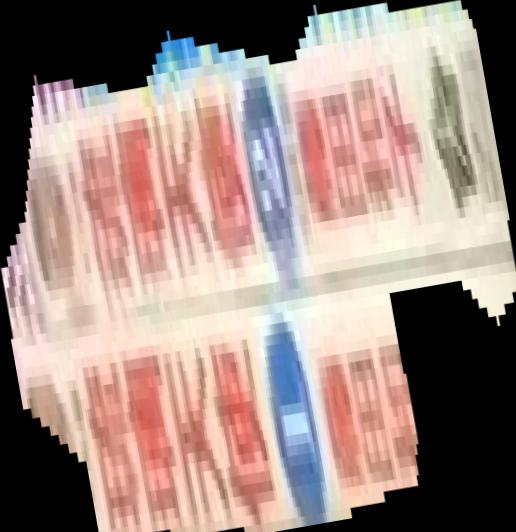flat: (1, 1, 516, 532)
